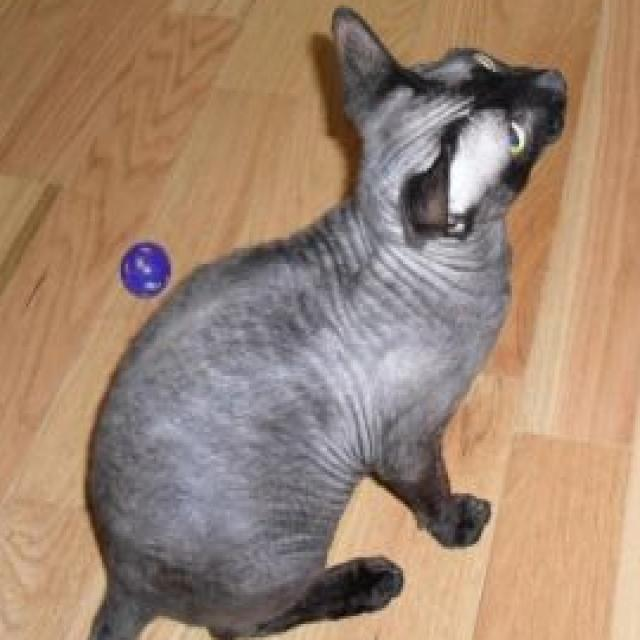Sphynx: (59, 2, 573, 640)
